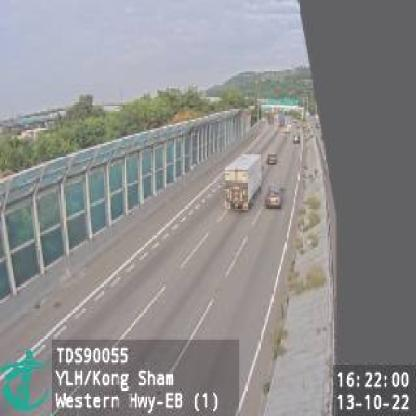Car: (267, 184, 284, 208), (266, 152, 278, 166)
Truck: (224, 152, 263, 212)
